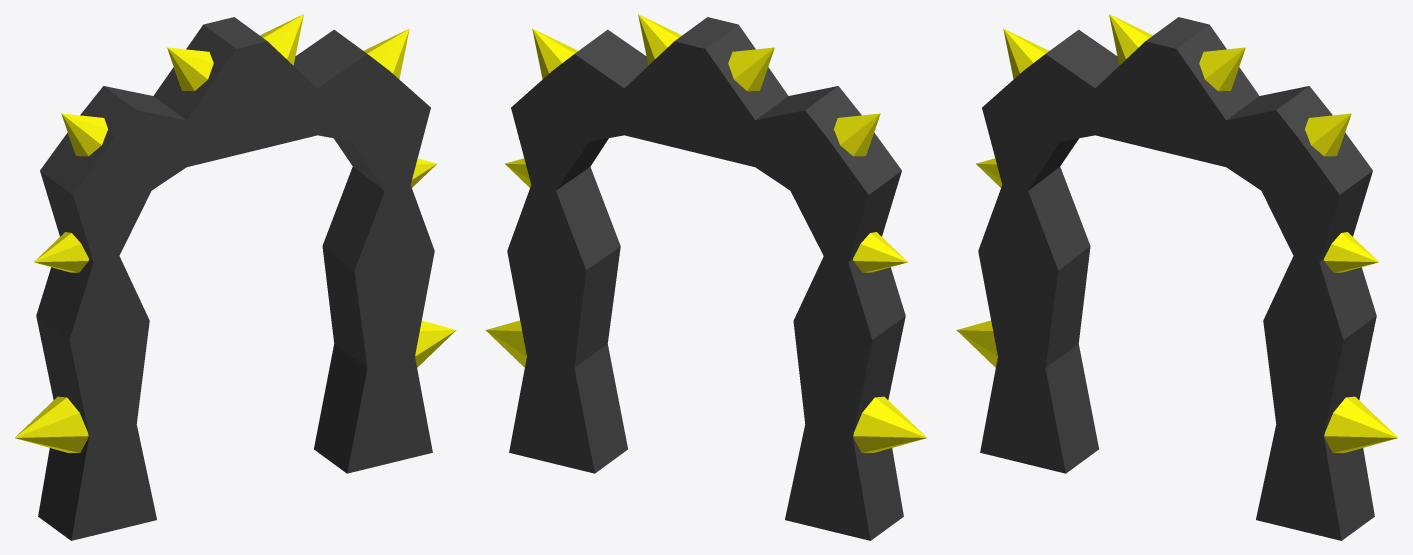
File: PortalVacio.fbx
The picture shows the model from 3 angles, left to right: view 1: azimuth 30°, elevation 25°; view 2: azimuth 150°, elevation 25°; view 3: azimuth 330°, elevation 25°; orthographic projection.
Parts seen in each view (by area): view 1: Portal; view 2: Portal; view 3: Portal.
Boxes of the visible parts, x1,y1,x2,y2 form: Portal: (15, 14, 456, 540); Portal: (485, 14, 926, 540); Portal: (956, 14, 1397, 540).
Bounding box in the file's own units: 460 × 451 × 60.
